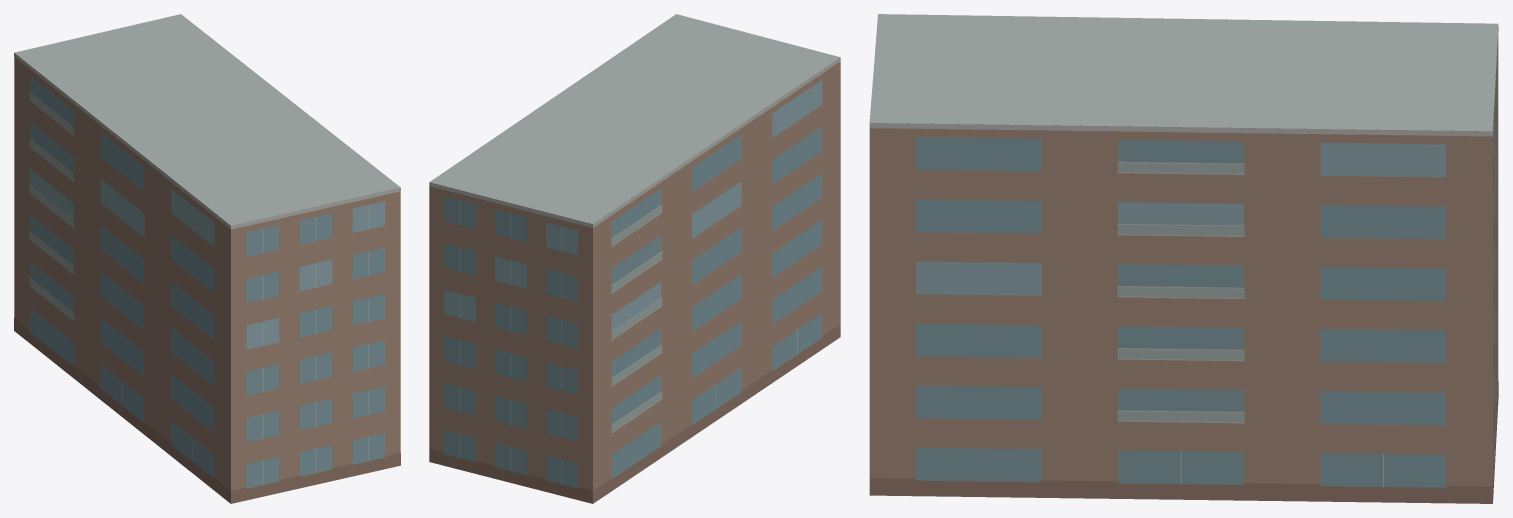
Rendered from survey-upis-32992082.glb.
3 renders of one model, left to right at view 1: azimuth 30°, elevation 25°; view 2: azimuth 150°, elevation 25°; view 3: azimuth 270°, elevation 25°, orthographic. The views are drawn at different scales.
Parts seen in each view (by area): view 1: survey-upis-32992082.tmp; view 2: survey-upis-32992082.tmp; view 3: survey-upis-32992082.tmp.
Boxes of the visible parts, box(x1,y1,x2,y2) form: survey-upis-32992082.tmp: box(14, 14, 400, 503); survey-upis-32992082.tmp: box(429, 14, 840, 503); survey-upis-32992082.tmp: box(869, 14, 1498, 503).
Bounding box in the file's own units: 11.83 × 17.5 × 26.79.
